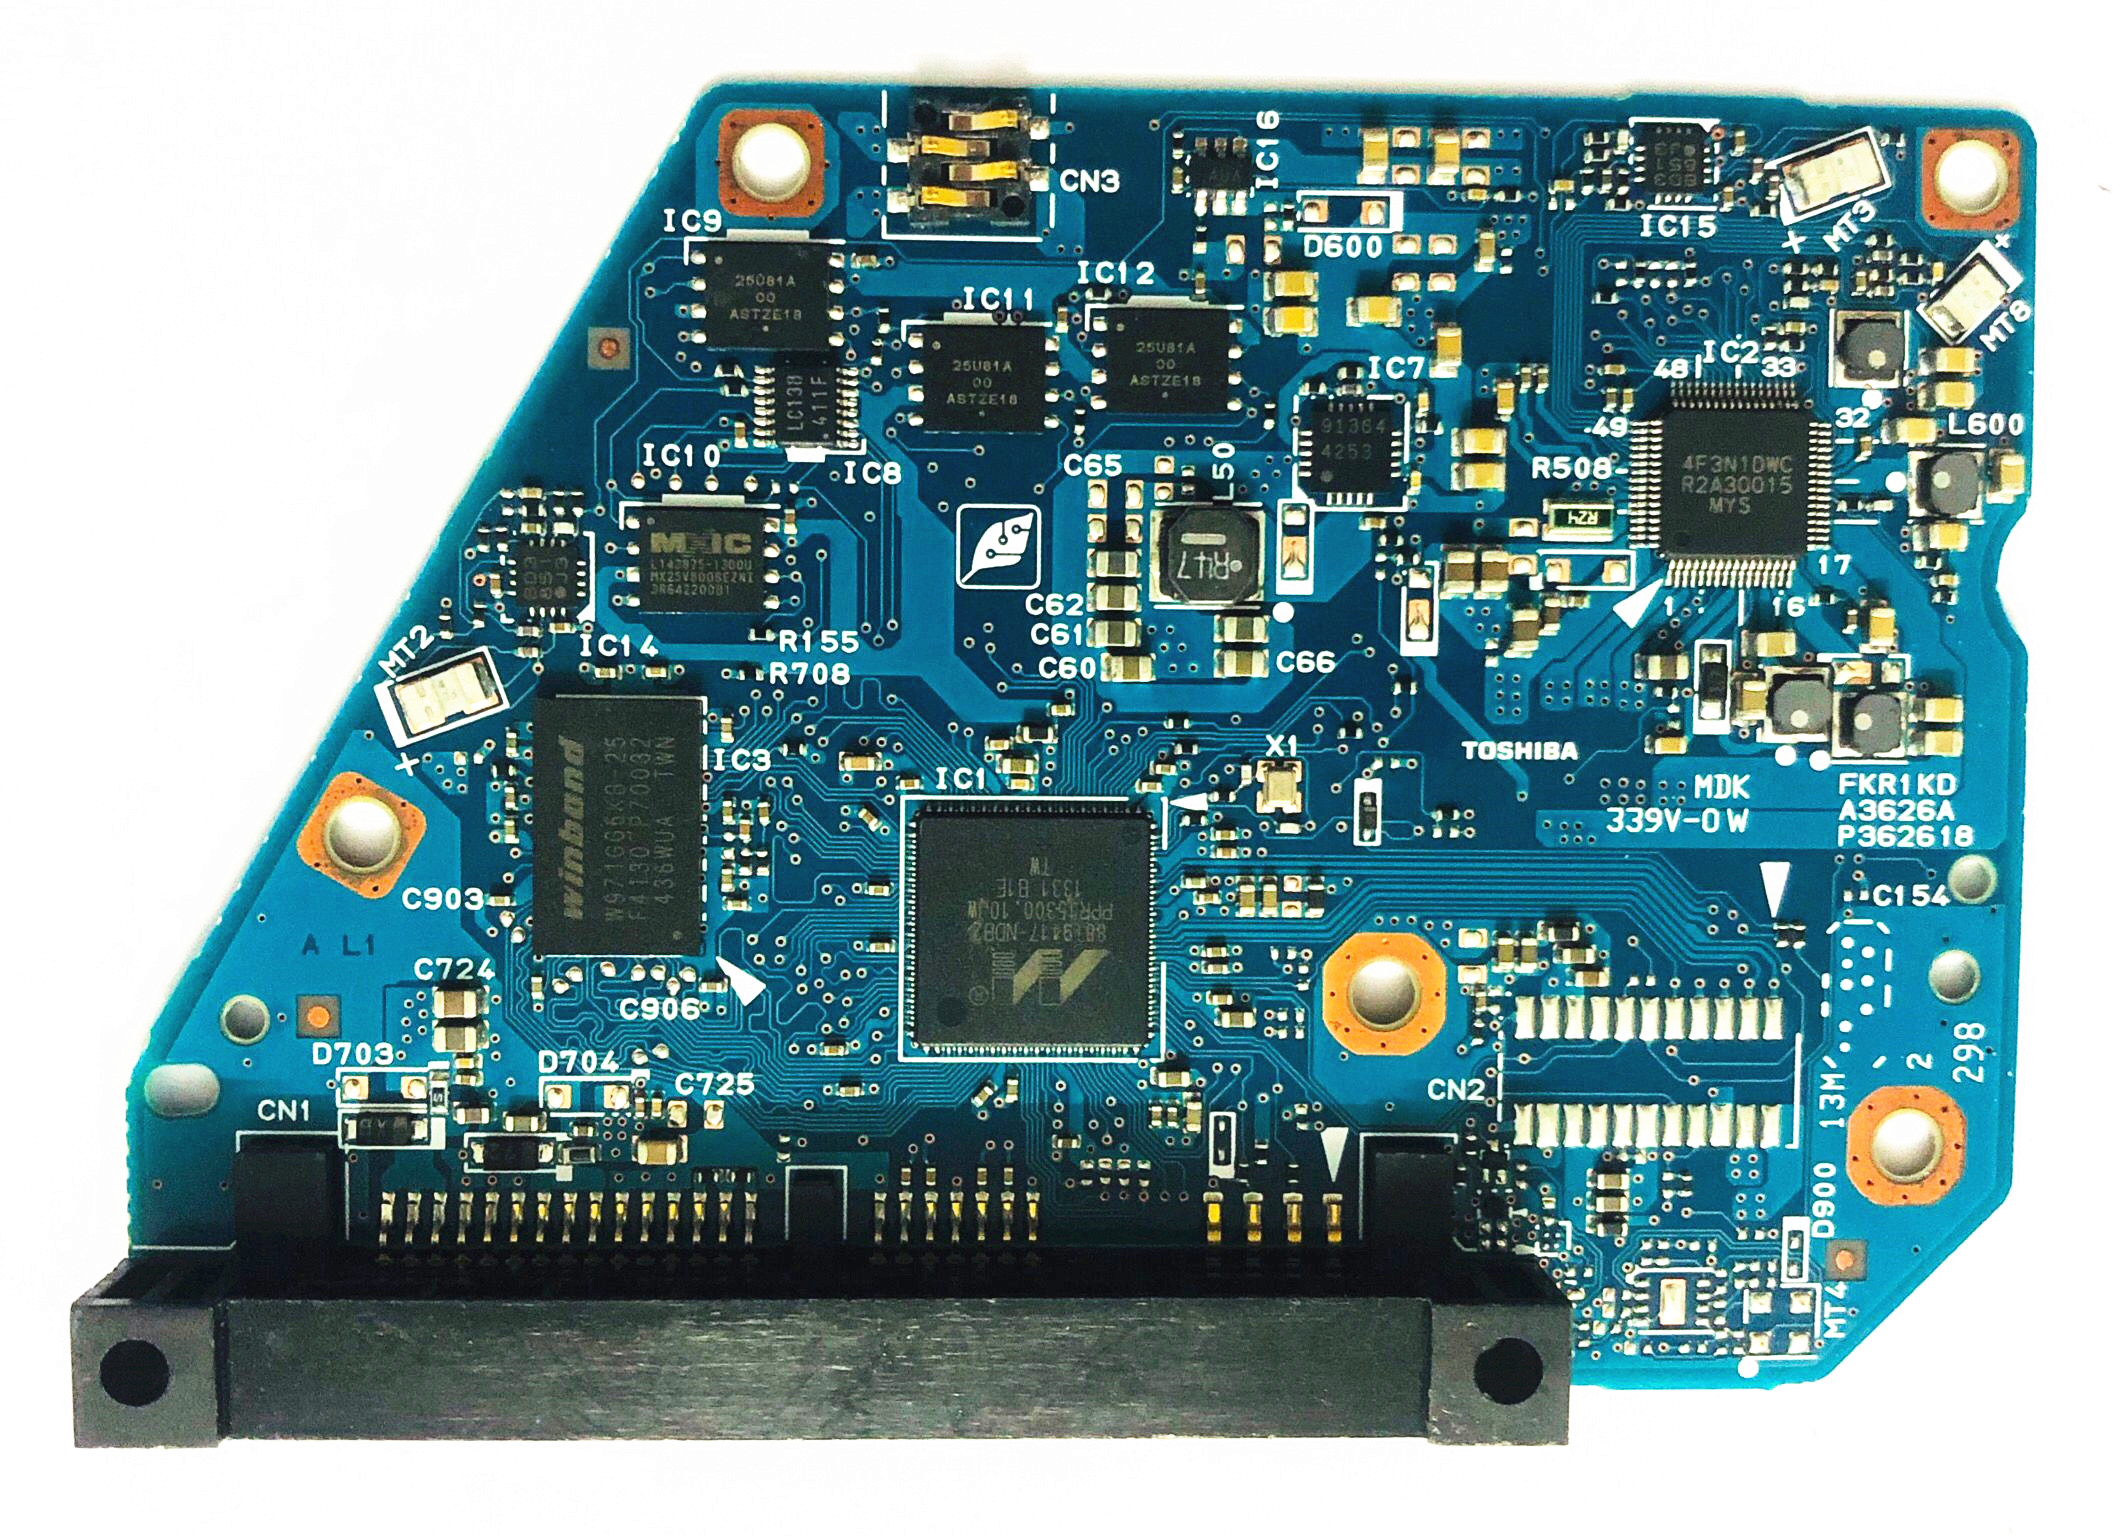Induktor: (1154, 504, 1259, 604), (1837, 310, 1904, 384), (1912, 450, 1979, 520), (1768, 671, 1830, 737), (1838, 693, 1902, 755)
